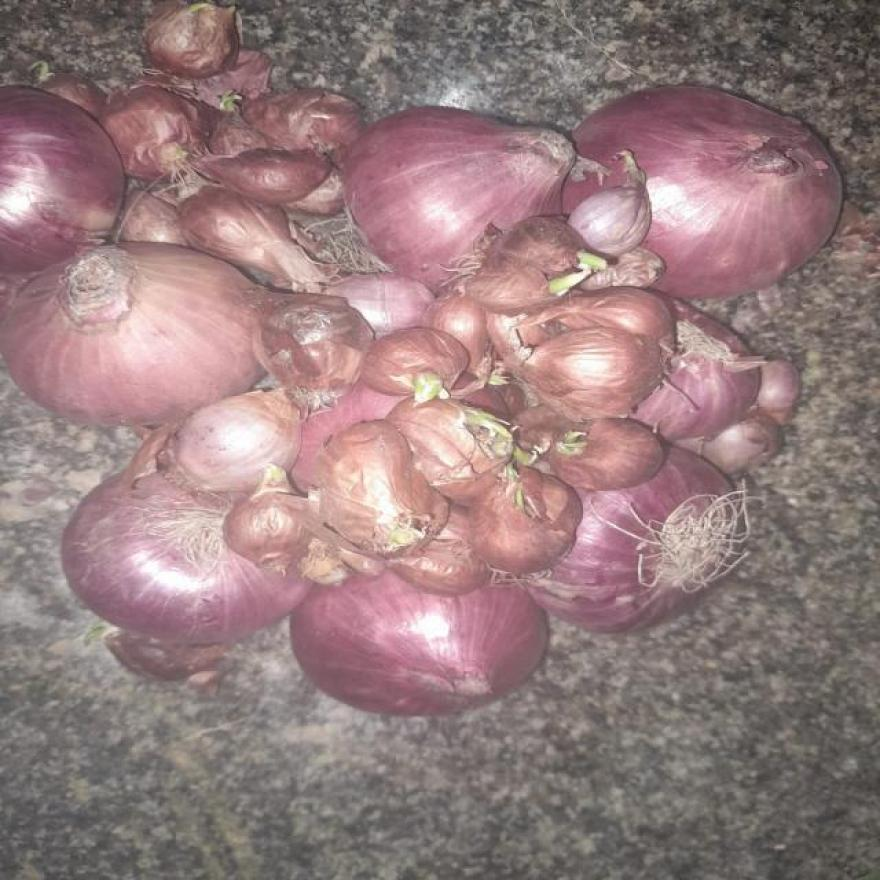Sprouted: (394, 380, 555, 464), (549, 262, 601, 296)
